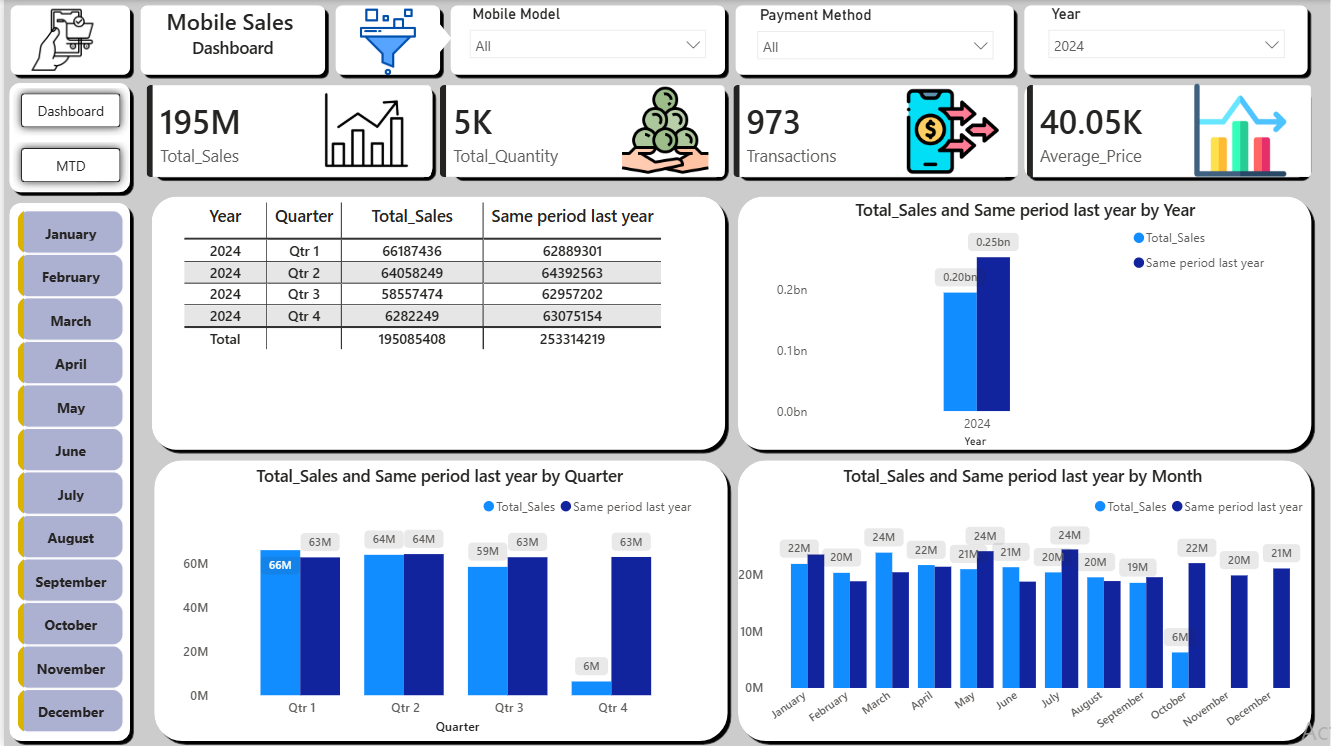

The dashboard page shown, as its layout file describes it:
{"tool":"powerbi","page":{"name":"Same Period Last Year","canvas":[1280,720],"ordinal":2},"visuals":[{"type":"shape","box":[1.2,0,125.5,77.2],"z":0},{"type":"shape","box":[0,74.8,126.7,115.8],"z":1000},{"type":"shape","box":[314.9,0,111,77.2],"z":2000},{"type":"image","box":[19.3,8.4,74.8,60.3],"z":3000},{"type":"shape","title":"Mo","box":[126.7,0,188.2,77.2],"z":4000},{"type":"image","box":[322.1,7.2,96.5,66.4],"z":5000},{"type":"shape","box":[425.9,0,275.1,77.2],"z":6000},{"type":"slicer","fields":{"Values":["Sales_Data.Mobile Model"]},"box":[439.1,0,248.5,74.8],"z":7000},{"type":"shape","box":[700.9,0,278.7,77.2],"z":8000},{"type":"slicer","fields":{"Values":["Sales_Data.Payment Method"]},"box":[716.6,1.2,248.5,74.8],"z":9000},{"type":"shape","box":[979.6,0,283.5,77.2],"z":10000},{"type":"slicer","fields":{"Values":["Custom Calander.Date.Variation.Date Hierarchy.Year"]},"box":[997.7,0,248.5,74.8],"z":11000},{"type":"shape","box":[0,190.6,126.7,529.6],"z":12000},{"type":"shape","box":[137.5,77.2,281.1,98.9],"z":13000},{"type":"shape","box":[425.9,77.2,275.1,98.9],"z":14000},{"type":"shape","box":[700.9,77.2,278.7,98.9],"z":15000},{"type":"shape","box":[979.6,77.2,283.5,98.9],"z":16000},{"type":"cardVisual","fields":{"Data":["Sales_Data.Total_Sales","Sales_Data.Total_Quantity","Sales_Data.Transactions","Sales_Data.Average_Price"]},"box":[120.6,65.1,1159.4,123.1],"z":17000},{"type":"shape","box":[405.4,20.5,26.5,32.6],"z":18000},{"type":"textbox","box":[126.7,1.2,188.2,72.4],"z":19000},{"type":"image","box":[284.7,74.8,130.3,101.3],"z":20000},{"type":"image","box":[573.1,80.8,130.3,89.3],"z":21000},{"type":"image","box":[850.5,82,130.3,89.3],"z":22000},{"type":"image","box":[1128,80.8,130.3,89.3],"z":23000},{"type":"advancedSlicerVisual","fields":{"Values":["Custom Calander.Date.Variation.Date Hierarchy.Month"]},"box":[8.4,197.6,112.2,522.4],"z":24000},{"type":"pageNavigator","box":[8.1,81.9,112.8,102.1],"z":25000},{"type":"shape","box":[137.5,184.6,563.4,254.6],"z":26000},{"type":"shape","box":[703.4,184.6,563.4,254.6],"z":27000},{"type":"shape","box":[139.9,439.1,563.4,281.1],"z":28000},{"type":"shape","box":[703.4,439.1,563.4,281.1],"z":29000},{"type":"tableEx","fields":{"Values":["Custom Calander.Date.Variation.Date Hierarchy.Year","Custom Calander.Date.Variation.Date Hierarchy.Quarter","Sales_Data.Total_Sales","Sales_Data.Same period last year"]},"box":[167.7,190.6,505.5,243.7],"z":30000},{"type":"clusteredColumnChart","title":"Total_Sales and Same period last year by Year","fields":{"Category":["Custom Calander.Date.Variation.Date Hierarchy.Year"],"Y":["Sales_Data.Total_Sales","Sales_Data.Same period last year"]},"box":[740.8,190.6,489.8,246.1],"z":31000},{"type":"clusteredColumnChart","fields":{"Category":["Custom Calander.Date.Variation.Date Hierarchy.Quarter"],"Y":["Sales_Data.Total_Sales","Sales_Data.Same period last year"]},"box":[167.7,447.6,505.5,266.6],"z":32000},{"type":"clusteredColumnChart","fields":{"Y":["Sales_Data.Total_Sales","Sales_Data.Same period last year"],"Category":["Custom Calander.Date.Variation.Date Hierarchy.Month"]},"box":[703.4,447.6,559.8,266.6],"z":33000}]}

Visuals, with their boxes in screenshot pixels (x1, y1, x2, y2), scaled from the page's 1280x720 canvas onto the 1331x746 screenshot:
shape: locate(1, 0, 132, 80)
shape: locate(0, 78, 132, 197)
shape: locate(327, 0, 443, 80)
image: locate(20, 9, 98, 71)
"Mo" shape: locate(132, 0, 327, 80)
image: locate(335, 7, 435, 76)
shape: locate(443, 0, 729, 80)
slicer - Sales_Data.Mobile Model: locate(457, 0, 715, 78)
shape: locate(729, 0, 1019, 80)
slicer - Sales_Data.Payment Method: locate(745, 1, 1004, 79)
shape: locate(1019, 0, 1313, 80)
slicer - Custom Calander.Date.Variation.Date Hierarchy.Year: locate(1037, 0, 1296, 78)
shape: locate(0, 197, 132, 745)
shape: locate(143, 80, 435, 182)
shape: locate(443, 80, 729, 182)
shape: locate(729, 80, 1019, 182)
shape: locate(1019, 80, 1313, 182)
cardVisual - Sales_Data.Total_Sales x Sales_Data.Total_Quantity: locate(125, 67, 1330, 195)
shape: locate(422, 21, 449, 55)
textbox: locate(132, 1, 327, 76)
image: locate(296, 78, 432, 182)
image: locate(596, 84, 731, 176)
image: locate(884, 85, 1020, 177)
image: locate(1173, 84, 1308, 176)
advancedSlicerVisual - Custom Calander.Date.Variation.Date Hierarchy.Month: locate(9, 205, 125, 745)
pageNavigator: locate(8, 85, 126, 191)
shape: locate(143, 191, 729, 455)
shape: locate(731, 191, 1317, 455)
shape: locate(145, 455, 731, 745)
shape: locate(731, 455, 1317, 745)
tableEx - Custom Calander.Date.Variation.Date Hierarchy.Year x Custom Calander.Date.Variation.Date Hierarchy.Quarter: locate(174, 197, 700, 450)
"Total_Sales and Same period last year by Year" clusteredColumnChart: locate(770, 197, 1280, 452)
clusteredColumnChart - Custom Calander.Date.Variation.Date Hierarchy.Quarter x Sales_Data.Total_Sales: locate(174, 464, 700, 740)
clusteredColumnChart - Sales_Data.Total_Sales x Sales_Data.Same period last year: locate(731, 464, 1314, 740)
